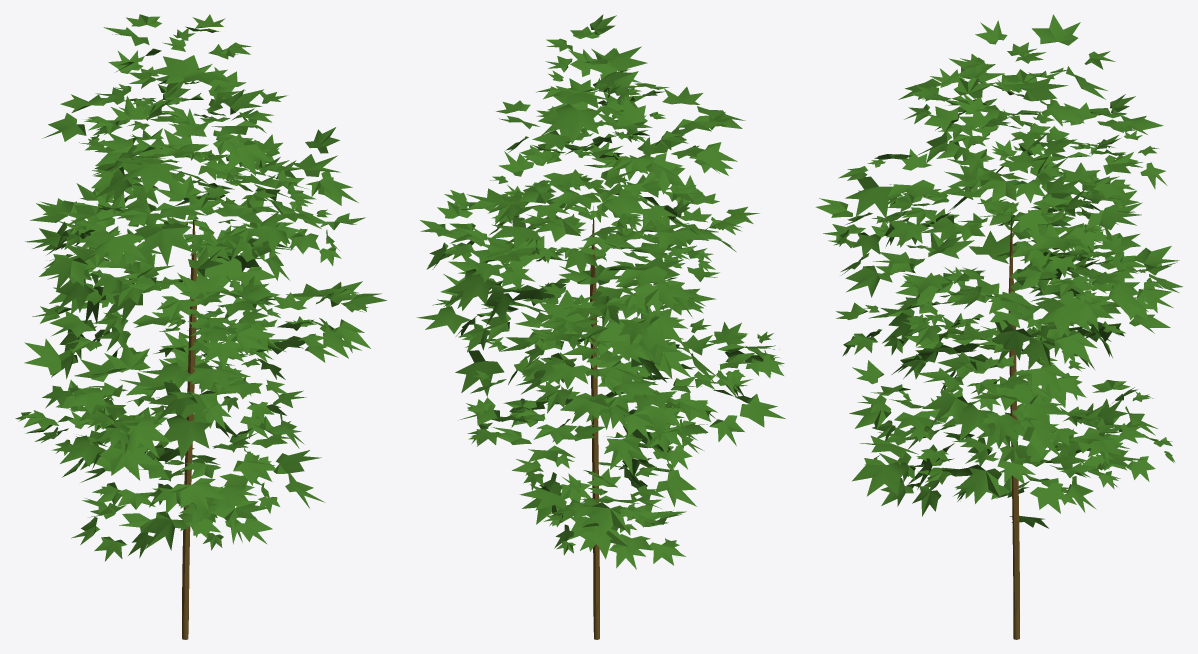
File: fertile-tree-1.obj
3 views of the same model, side by side, from view 1: azimuth 30°, elevation 25°; view 2: azimuth 150°, elevation 25°; view 3: azimuth 270°, elevation 25° (orthographic). The views are drawn at different scales.
Parts seen in each view (by area): view 1: LEAF01, TRUNK01; view 2: LEAF01, TRUNK01; view 3: LEAF01, TRUNK01.
Part boxes in pixels (x1,y1,x2,y2): LEAF01: [15, 14, 386, 561]; TRUNK01: [182, 204, 196, 639]; LEAF01: [416, 14, 785, 569]; TRUNK01: [590, 206, 599, 639]; LEAF01: [815, 14, 1182, 528]; TRUNK01: [1008, 208, 1019, 639].
Size of the model in its own units: 99.97 by 171 by 92.72.
